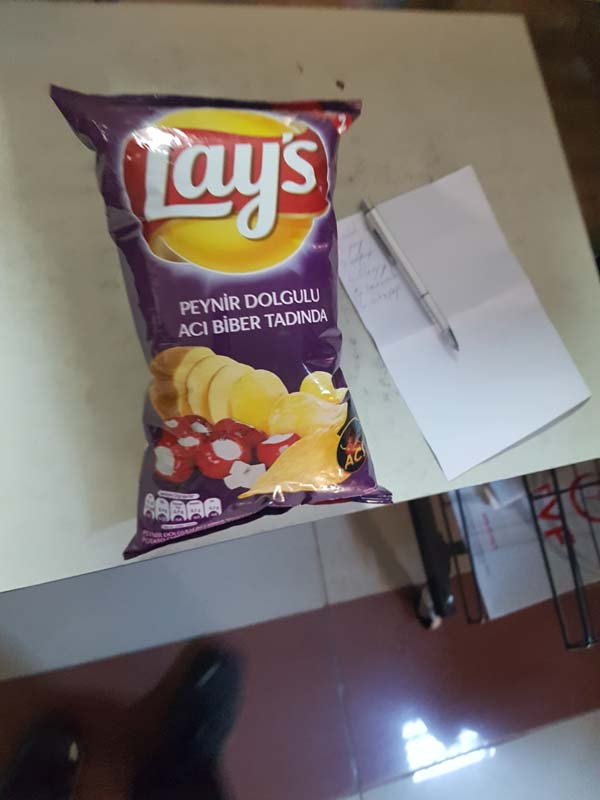layspeynirsoslu: (47, 82, 423, 550)
